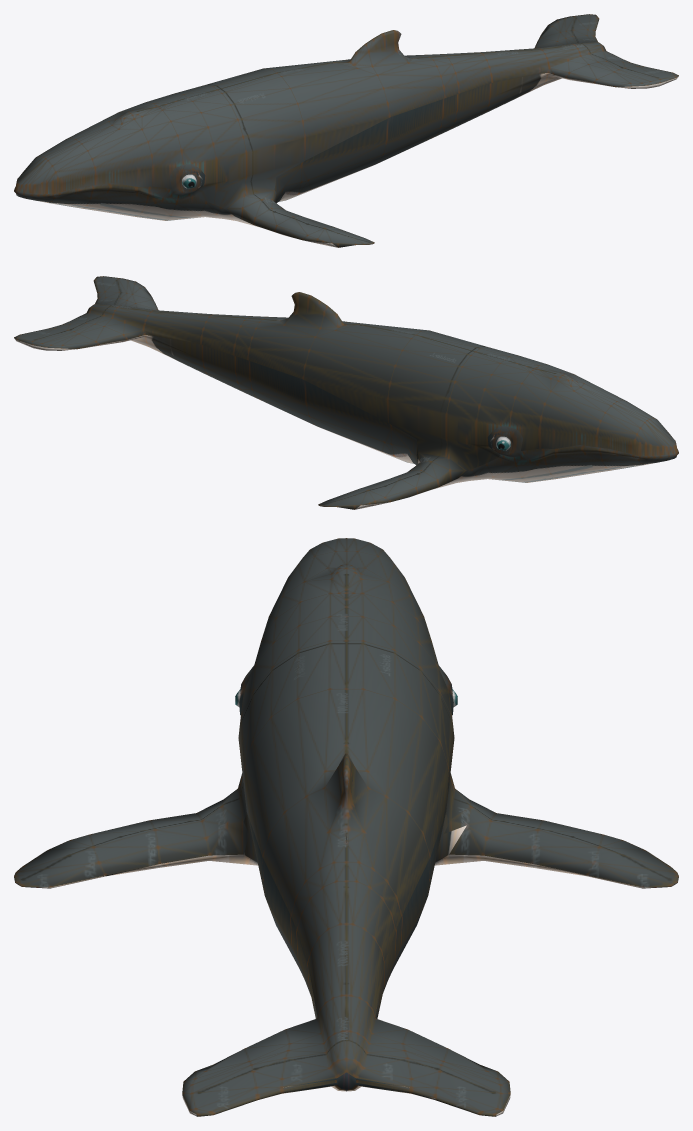
The model's file is humpback.glb.
The picture shows the model from 3 angles, top to bottom: view 1: azimuth 30°, elevation 25°; view 2: azimuth 150°, elevation 25°; view 3: azimuth 270°, elevation 25°; orthographic projection. The views are drawn at different scales.
Parts seen in each view (by area): view 1: HUMPBACK_mesh; view 2: HUMPBACK_mesh; view 3: HUMPBACK_mesh.
Part boxes in pixels (<box>): HUMPBACK_mesh: <box>14,14,678,247</box>; HUMPBACK_mesh: <box>14,276,678,509</box>; HUMPBACK_mesh: <box>14,538,678,1116</box>.
Bounding box in the file's own units: 10.47 × 2.23 × 5.37.
Materials: 1 (1 with a texture image).
